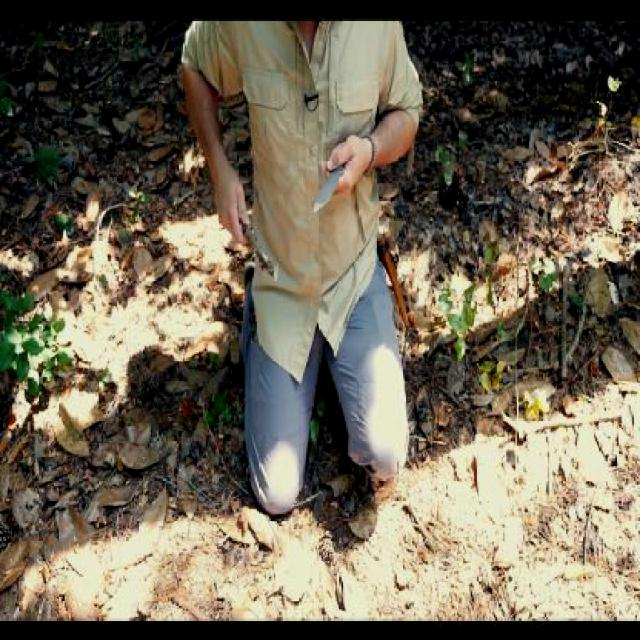knife: (309, 132, 368, 218)
